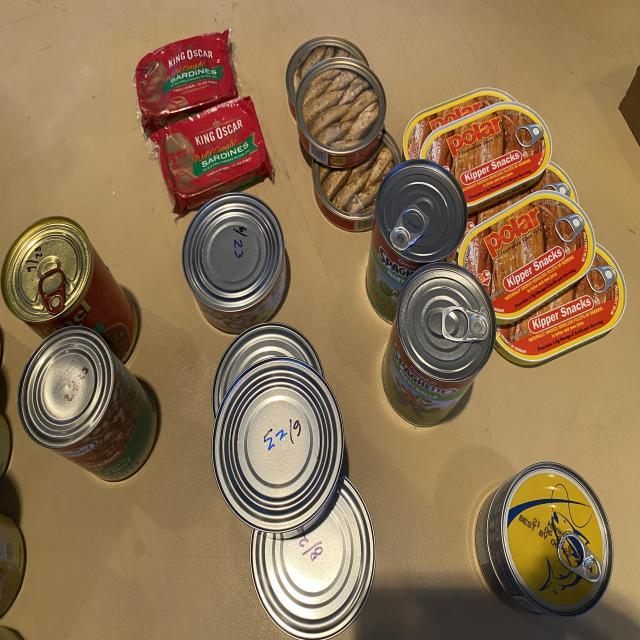Canned Fish: (212, 360, 344, 537), (250, 477, 375, 638), (488, 462, 612, 617), (458, 190, 596, 325), (495, 245, 626, 365), (182, 193, 286, 333), (151, 97, 274, 213), (420, 102, 552, 210), (212, 323, 324, 417), (135, 30, 238, 130), (295, 58, 386, 168), (465, 162, 579, 235), (402, 87, 515, 160), (285, 37, 369, 118), (311, 160, 375, 232), (475, 490, 498, 565), (482, 565, 509, 600), (381, 132, 401, 167), (475, 118, 479, 123), (561, 330, 564, 333)
Canned Food: (18, 327, 156, 482), (1, 217, 138, 360), (382, 263, 495, 427), (366, 160, 468, 322), (0, 515, 25, 618), (0, 413, 11, 478), (0, 627, 22, 640)
